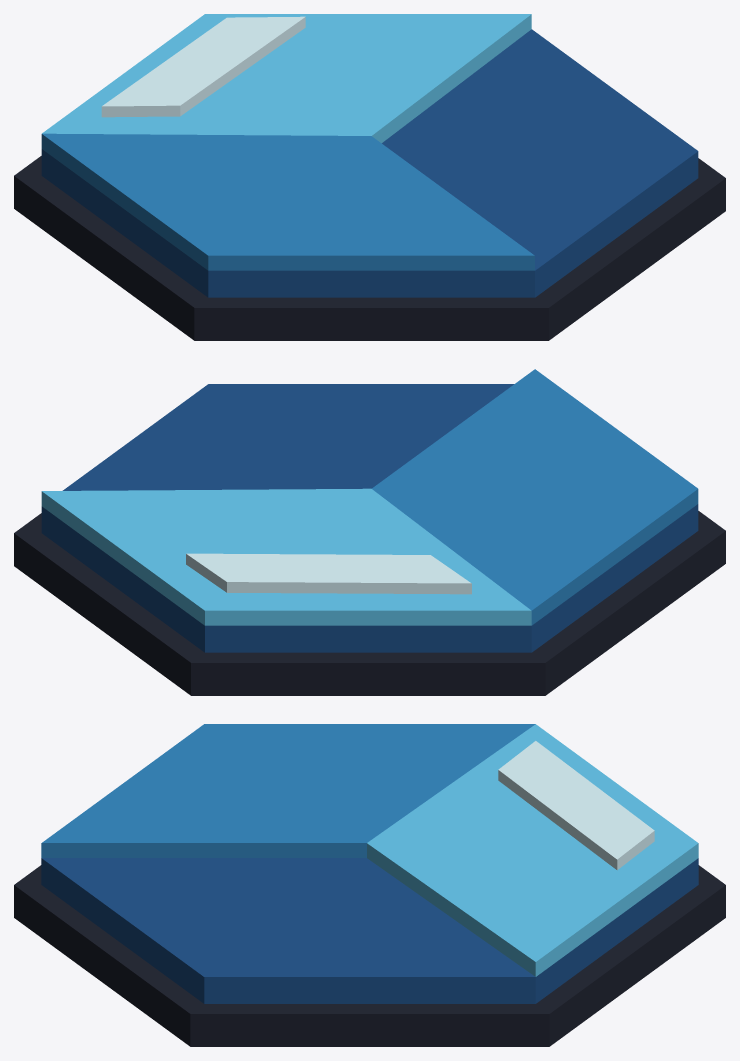
Rendered from blue_cube.fbx.
3 views of the same model, one above another, from view 1: azimuth 30°, elevation 25°; view 2: azimuth 150°, elevation 25°; view 3: azimuth 270°, elevation 25° (orthographic).
Visible parts, largest first — view 1: blue_cube; view 2: blue_cube; view 3: blue_cube.
Part boxes in pixels (x1,y1,x2,y2): blue_cube: (14, 14, 725, 340); blue_cube: (14, 369, 725, 695); blue_cube: (14, 724, 725, 1046).
Bounding box in the file's own units: 0.9264 × 0.146 × 1.08.
Materials: 1 (1 with a texture image).
